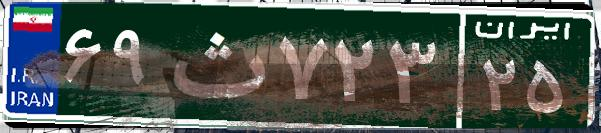2: (330, 28, 385, 110), (475, 38, 525, 113)
3: (385, 28, 445, 110)
5: (525, 38, 570, 115)
6: (57, 26, 110, 107)
7: (273, 28, 330, 110)
9: (110, 28, 158, 105)
ث: (158, 15, 273, 115)
